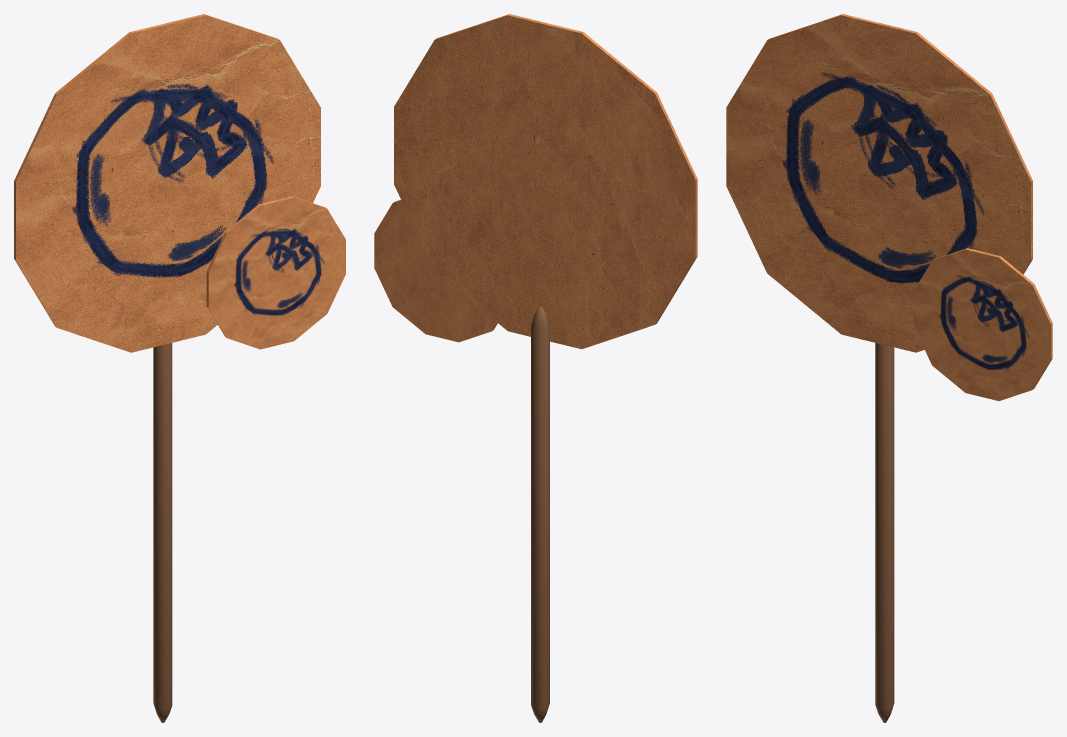
The model's file is Building_Material_Result.fbx.
The picture shows the model from 3 angles, left to right: view 1: azimuth 30°, elevation 25°; view 2: azimuth 150°, elevation 25°; view 3: azimuth 330°, elevation 25°; orthographic projection.
Visible parts, largest first — view 1: Result_Material, Result_Material.001; view 2: Result_Material, Result_Material.001; view 3: Result_Material, Result_Material.001.
Boxes of the visible parts, x1,y1,x2,y2 form: Result_Material: (14, 14, 320, 722); Result_Material.001: (206, 196, 345, 349); Result_Material: (394, 14, 697, 722); Result_Material.001: (374, 199, 497, 342); Result_Material: (726, 14, 1032, 722); Result_Material.001: (913, 248, 1052, 400).
Bounding box in the file's own units: 94.36 × 193 × 6.67.
